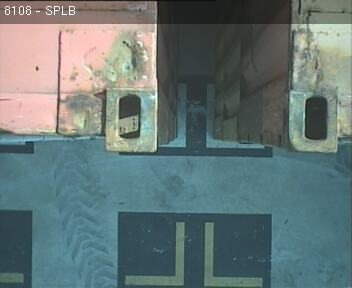groundmarker_1: (125, 221, 261, 288)
